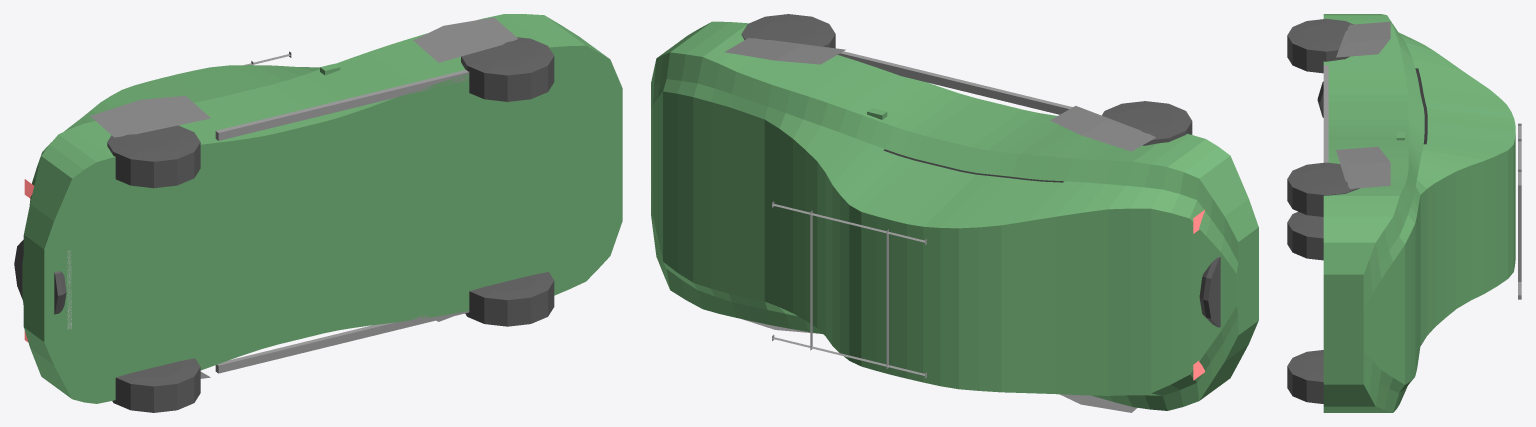
Rendered from Vehicle_4_3.glb.
The picture shows the model from 3 angles, left to right: view 1: azimuth 30°, elevation 25°; view 2: azimuth 150°, elevation 25°; view 3: azimuth 270°, elevation 25°; orthographic projection. The views are drawn at different scales.
Visible parts, largest first — view 1: Body, Wheel_1.4_0.85, Wheel_-1.4_0.85, Wheel_1.4_-0.85, Wheel_-1.4_-0.85, Flare_RL, StepBar_0.88, Flare_FL, StepBar_-0.88, SpareWheel; view 2: Body, Wheel_-1.4_0.85, StepBar_0.88, Wheel_1.4_0.85, Flare_RL, Flare_FL, SpareWheel, Flare_RR; view 3: Body, Wheel_-1.4_0.85, Wheel_1.4_0.85, Flare_FL, Wheel_1.4_-0.85, Wheel_-1.4_-0.85, Flare_RL, StepBar_0.88, Cross_0.3, Trim_R, Rail_0.5.
Part boxes in pixels (left/top/right/bottom): Body: left=22, top=14, right=622, bottom=403; Wheel_1.4_0.85: left=461, top=37, right=554, bottom=101; Wheel_-1.4_0.85: left=107, top=125, right=200, bottom=188; Wheel_1.4_-0.85: left=465, top=272, right=554, bottom=326; Wheel_-1.4_-0.85: left=112, top=358, right=200, bottom=412; Flare_RL: left=90, top=96, right=210, bottom=137; StepBar_0.88: left=215, top=70, right=469, bottom=140; Flare_FL: left=413, top=17, right=517, bottom=62; StepBar_-0.88: left=215, top=309, right=469, bottom=373; SpareWheel: left=14, top=240, right=62, bottom=314; Body: left=651, top=21, right=1258, bottom=410; Wheel_-1.4_0.85: left=1102, top=101, right=1192, bottom=145; StepBar_0.88: left=838, top=51, right=1072, bottom=114; Wheel_1.4_0.85: left=741, top=14, right=835, bottom=48; Flare_RL: left=1050, top=105, right=1155, bottom=151; Flare_FL: left=724, top=38, right=845, bottom=64; SpareWheel: left=1203, top=256, right=1220, bottom=327; Flare_RR: left=1060, top=394, right=1137, bottom=412; Body: left=1323, top=14, right=1515, bottom=412; Wheel_-1.4_0.85: left=1287, top=19, right=1353, bottom=73; Wheel_1.4_0.85: left=1287, top=162, right=1359, bottom=216; Flare_FL: left=1336, top=146, right=1390, bottom=188; Wheel_1.4_-0.85: left=1287, top=350, right=1323, bottom=403; Wheel_-1.4_-0.85: left=1287, top=211, right=1323, bottom=260; Flare_RL: left=1336, top=21, right=1390, bottom=57; StepBar_0.88: left=1323, top=65, right=1328, bottom=162; Cross_0.3: left=1518, top=169, right=1521, bottom=281; Trim_R: left=1415, top=68, right=1427, bottom=144; Rail_0.5: left=1518, top=123, right=1521, bottom=189.
Bounding box in the file's own units: 4.58 × 2.02 × 1.93.
